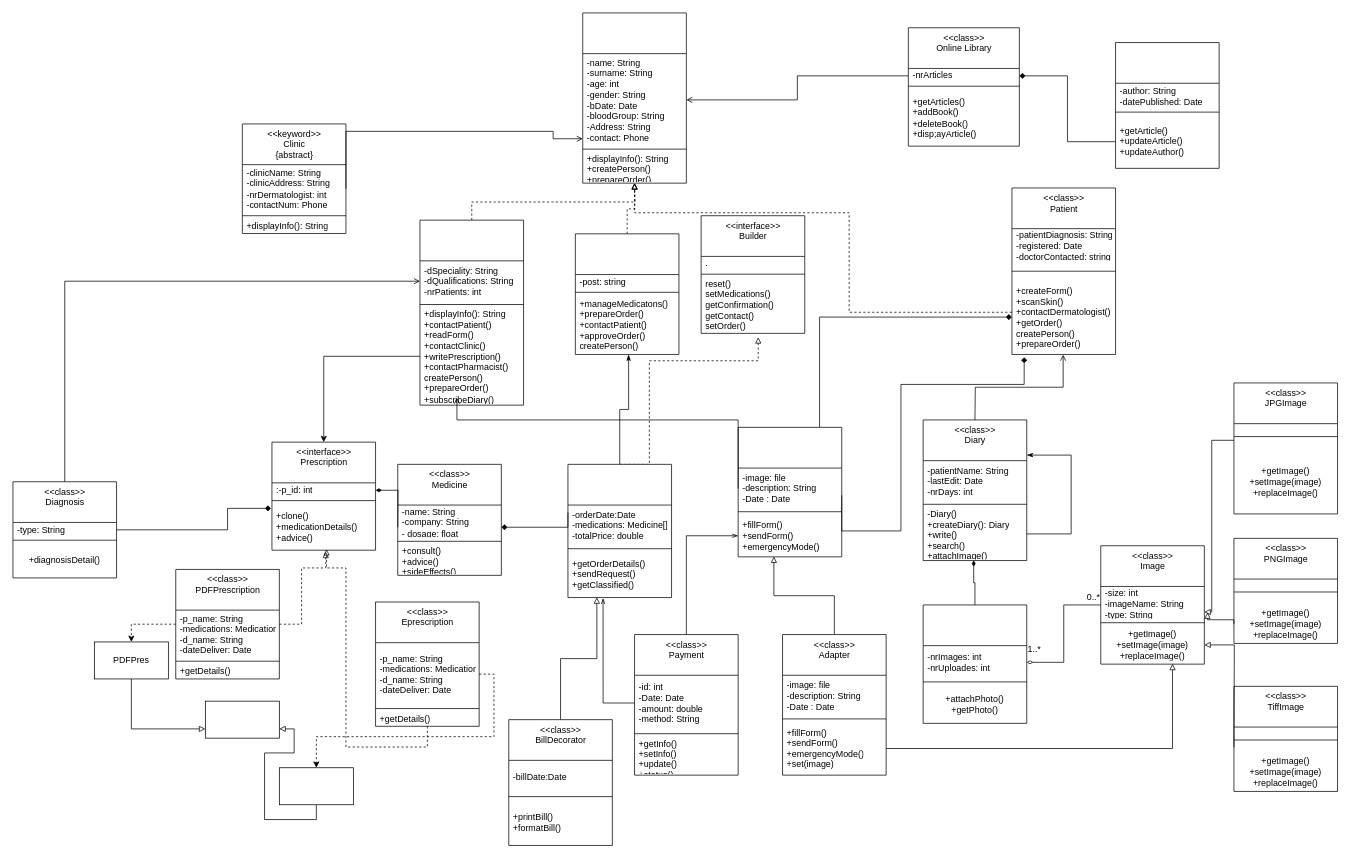
Image size: 1351x858. Some labels were removed from this diagram. Each missing label, with the box of its shape:
<<class>> Album: (922, 604, 1027, 723)
<<class>> Article {abstract}: (1115, 42, 1219, 168)
<<class>> Dermatologist: (419, 219, 524, 405)
<<class>> Form: (737, 427, 842, 557)
<<class>> Order: (567, 464, 672, 598)
<<class>> Pharmacist: (575, 233, 679, 354)
<<interface>> Person: (582, 12, 686, 183)
EPres: (279, 767, 353, 805)
Prescription: (205, 700, 279, 738)
